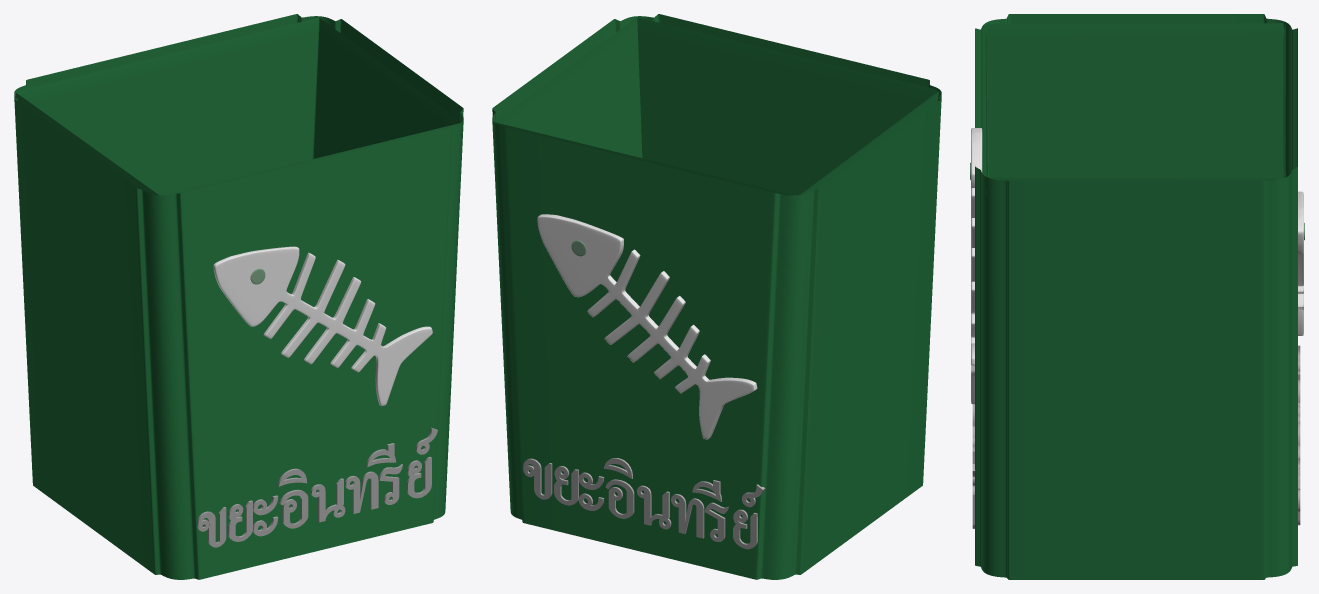
File: Greenbin_nothave.fbx
3 renders of one model, left to right at view 1: azimuth 30°, elevation 25°; view 2: azimuth 150°, elevation 25°; view 3: azimuth 270°, elevation 25°, orthographic. The views are drawn at different scales.
Visible parts, largest first — view 1: typeMesh3; view 2: typeMesh3; view 3: typeMesh3.
Boxes of the visible parts, box(x1,y1,x2,y2) form: typeMesh3: box(14, 14, 463, 579); typeMesh3: box(492, 14, 941, 579); typeMesh3: box(970, 14, 1304, 579).
Bounding box in the file's own units: 5.46 × 6.24 × 4.63.
